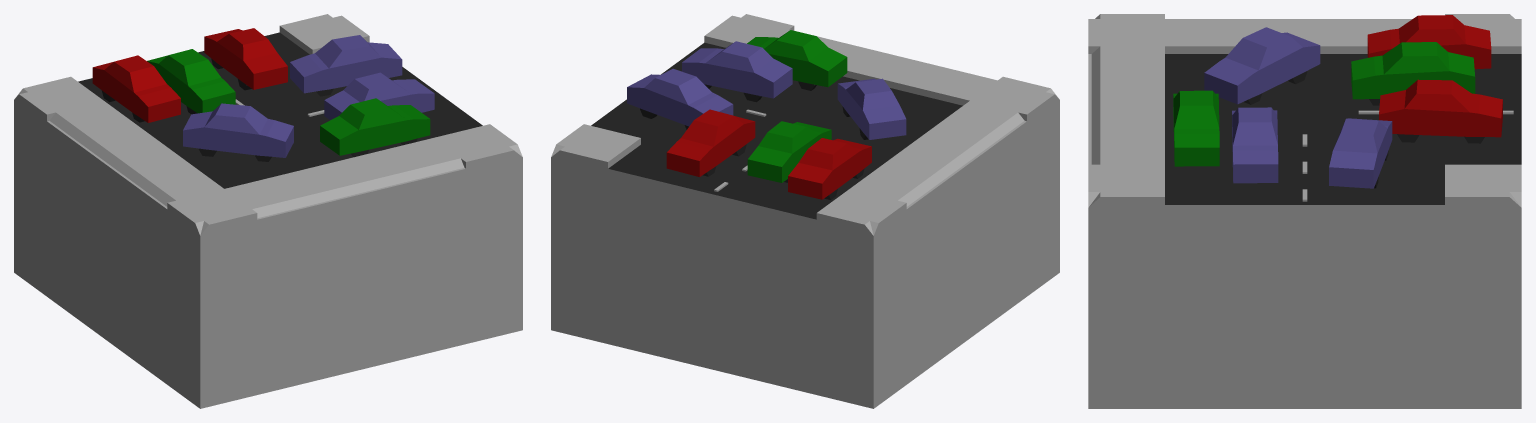
The model's file is Turn.fbx.
3 renders of one model, left to right at view 1: azimuth 30°, elevation 25°; view 2: azimuth 150°, elevation 25°; view 3: azimuth 270°, elevation 25°, orthographic. The views are drawn at different scales.
Visible parts, largest first — view 1: Busyroad2_pCube51, Car (×7); view 2: Busyroad2_pCube51, Car (×7); view 3: Busyroad2_pCube51, Car (×7).
Part boxes in pixels (box(x1,y1,x2,y2)): Busyroad2_pCube51: box(14, 14, 522, 408); Car (×7): box(92, 28, 434, 157); Busyroad2_pCube51: box(551, 14, 1059, 408); Car (×7): box(627, 30, 906, 199); Busyroad2_pCube51: box(1088, 14, 1521, 408); Car (×7): box(1173, 15, 1502, 188).
Bounding box in the file's own units: 1 × 0.6383 × 1.
